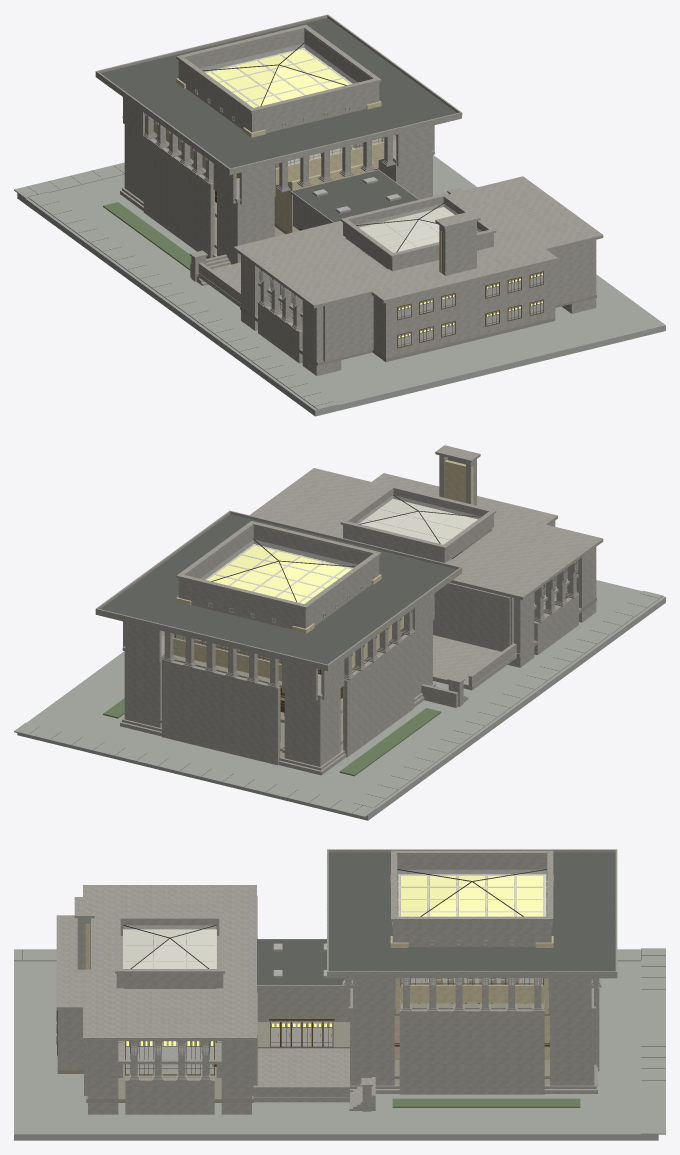
The picture shows the model from 3 angles, top to bottom: view 1: azimuth 30°, elevation 25°; view 2: azimuth 150°, elevation 25°; view 3: azimuth 270°, elevation 25°; orthographic projection. The views are drawn at different scales.
Visible parts, largest first — view 1: 06_Complete_Architecture; view 2: 06_Complete_Architecture; view 3: 06_Complete_Architecture.
Boxes of the visible parts, left/top/right/bottom form: 06_Complete_Architecture: left=14, top=14, right=665, bottom=416; 06_Complete_Architecture: left=14, top=445, right=665, bottom=820; 06_Complete_Architecture: left=14, top=849, right=665, bottom=1140.
Bounding box in the file's own units: 35 × 14.7 × 52.08.
13 materials, 3 textured.
